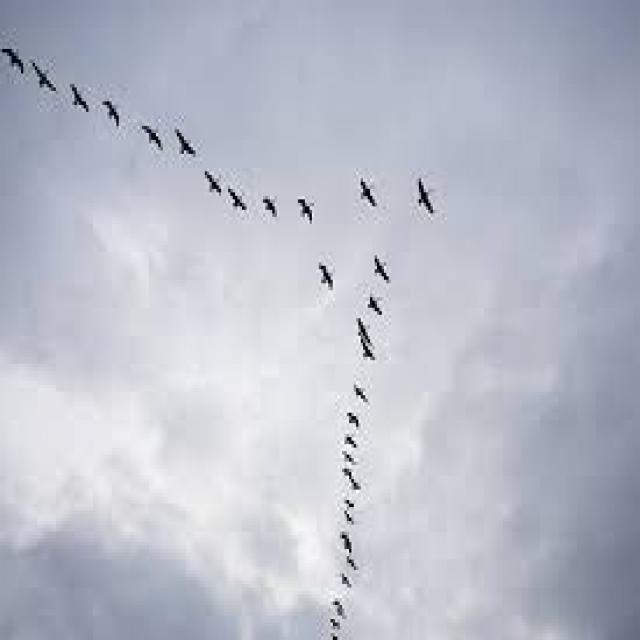bird: (162, 110, 210, 163), (342, 306, 382, 369), (406, 170, 453, 222), (318, 456, 372, 492), (90, 82, 132, 128), (1, 29, 29, 96), (223, 180, 256, 236), (132, 103, 168, 152), (188, 161, 230, 203), (62, 72, 96, 120), (310, 245, 342, 294), (329, 397, 369, 435), (31, 54, 64, 96), (350, 175, 383, 217), (344, 380, 380, 418), (366, 242, 394, 290), (252, 187, 283, 229), (336, 566, 366, 606), (294, 190, 320, 230), (330, 530, 366, 558), (367, 284, 388, 326), (334, 506, 360, 534), (330, 592, 348, 632), (336, 427, 364, 448), (343, 548, 362, 576), (333, 448, 368, 462), (340, 488, 358, 512), (328, 615, 342, 640), (328, 633, 347, 640)
